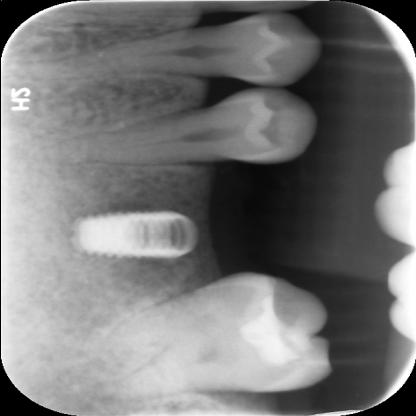Bicon: (67, 203, 205, 264)
